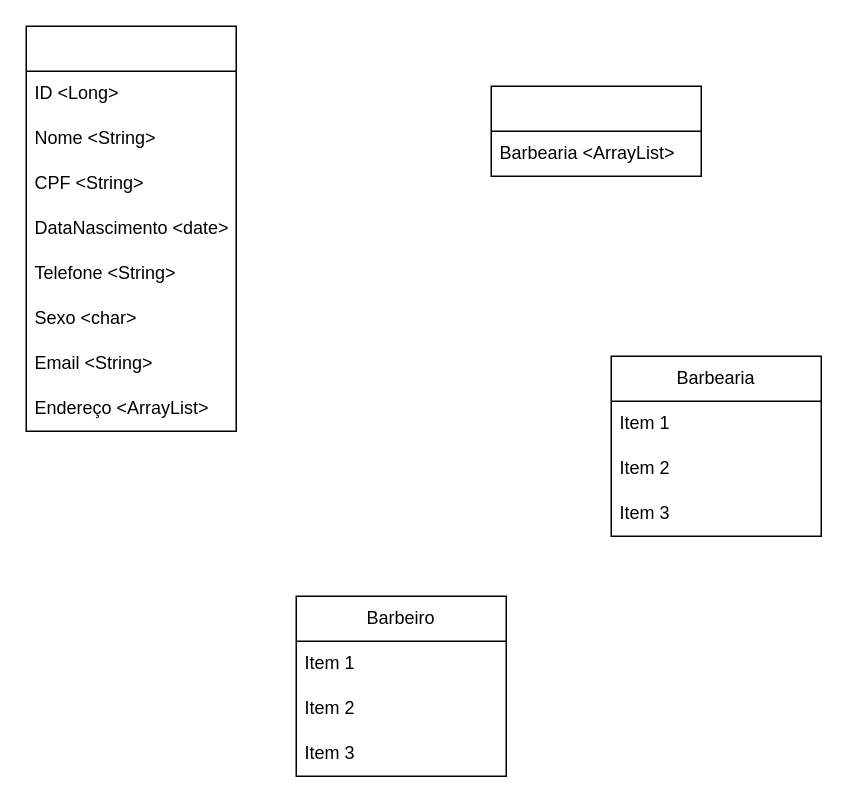
This 848x803 diagram has some shape labels left out. The shapes that lost their labels are listed below. From the top down, each one's box as (x1, y1, x2, y2) in pixels, then its label:
(490, 85, 701, 176): Administrador
(25, 25, 236, 431): Pessoa
